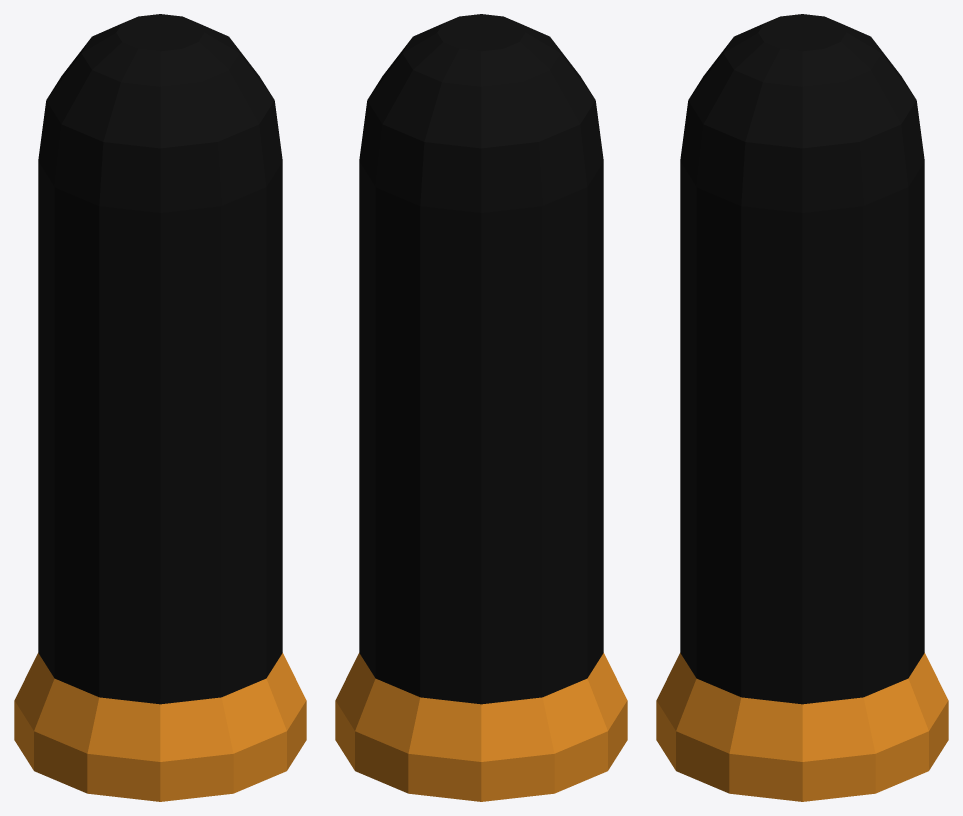
File: gun.fbx
The picture shows the model from 3 angles, left to right: view 1: azimuth 30°, elevation 25°; view 2: azimuth 150°, elevation 25°; view 3: azimuth 270°, elevation 25°; orthographic projection.
Parts seen in each view (by area): view 1: gun; view 2: gun; view 3: gun.
Boxes of the visible parts, box(x1,y1,x2,y2) form: gun: box(14, 14, 306, 801); gun: box(335, 14, 627, 801); gun: box(656, 14, 948, 801).
Bounding box in the file's own units: 116 × 311 × 116.
